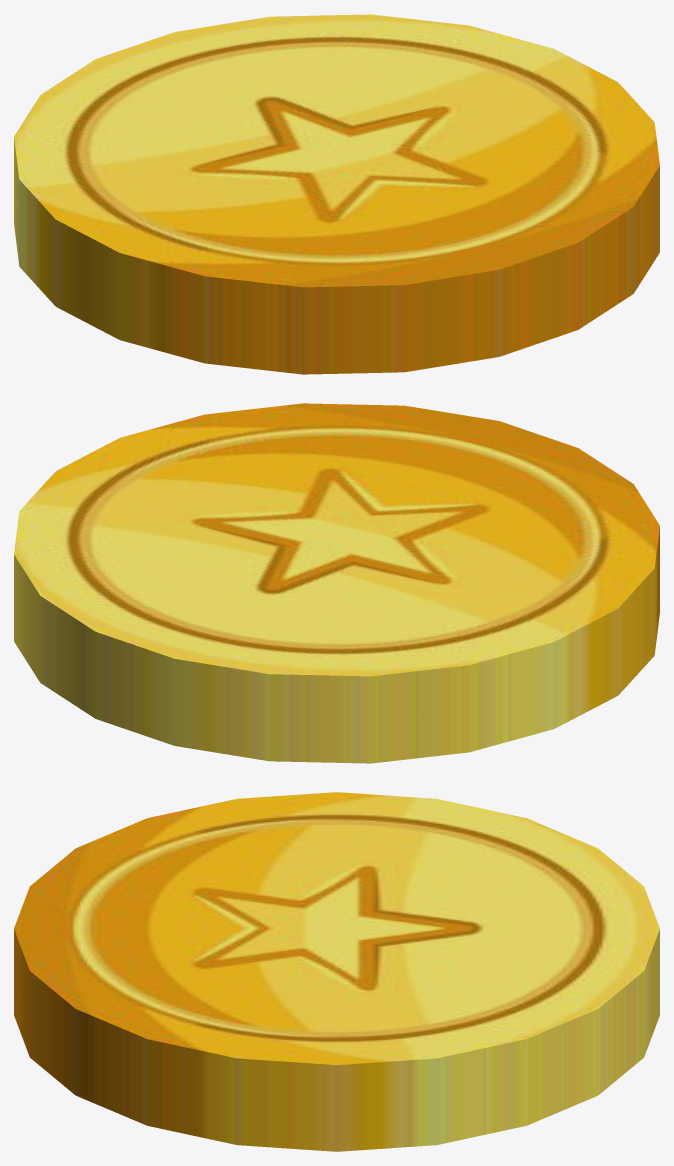
File: coin_model.fbx
3 renders of one model, top to bottom at view 1: azimuth 30°, elevation 25°; view 2: azimuth 150°, elevation 25°; view 3: azimuth 270°, elevation 25°, orthographic.
Visible parts, largest first — view 1: pCylinder2; view 2: pCylinder2; view 3: pCylinder2.
Part boxes in pixels (x1=…): pCylinder2: x1=14, y1=14, x2=659, y2=374; pCylinder2: x1=14, y1=403, x2=659, y2=763; pCylinder2: x1=14, y1=792, x2=659, y2=1151.
Size of the model in its own units: 3.07 by 0.4549 by 3.07.
